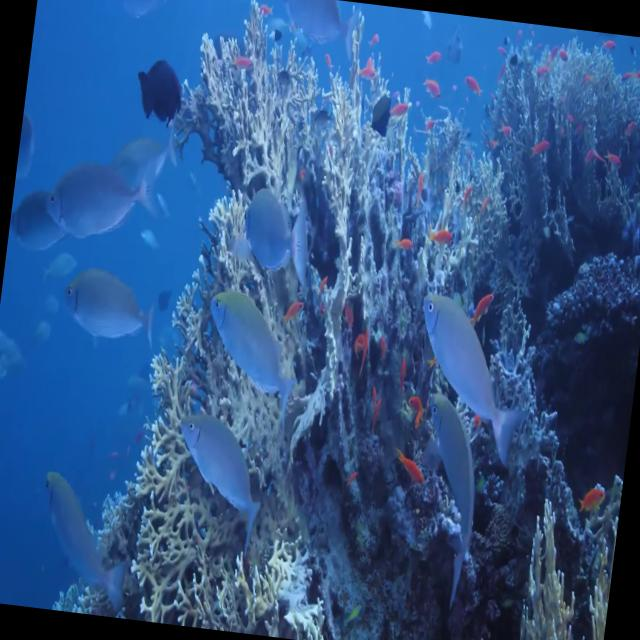fish: (404, 281, 538, 476), (398, 394, 496, 610), (190, 274, 314, 439), (25, 444, 140, 614), (160, 391, 275, 554), (44, 132, 162, 254), (53, 253, 164, 369), (226, 172, 328, 290), (5, 168, 64, 264), (134, 48, 196, 127), (342, 316, 376, 384), (568, 470, 606, 530), (388, 438, 428, 488), (111, 0, 176, 28), (278, 288, 308, 334), (352, 50, 384, 89), (390, 222, 422, 261), (404, 386, 431, 432), (418, 67, 449, 107), (384, 98, 416, 130), (461, 62, 489, 98), (432, 212, 460, 245), (422, 46, 443, 74)
